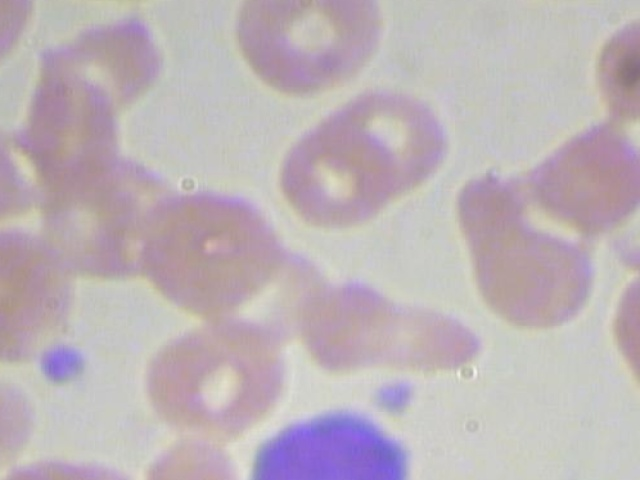Platelets: (25, 336, 101, 389), (367, 371, 423, 418)
RBC: (126, 319, 290, 440), (266, 121, 399, 233), (322, 84, 455, 196)
WBC: (234, 401, 413, 480)
